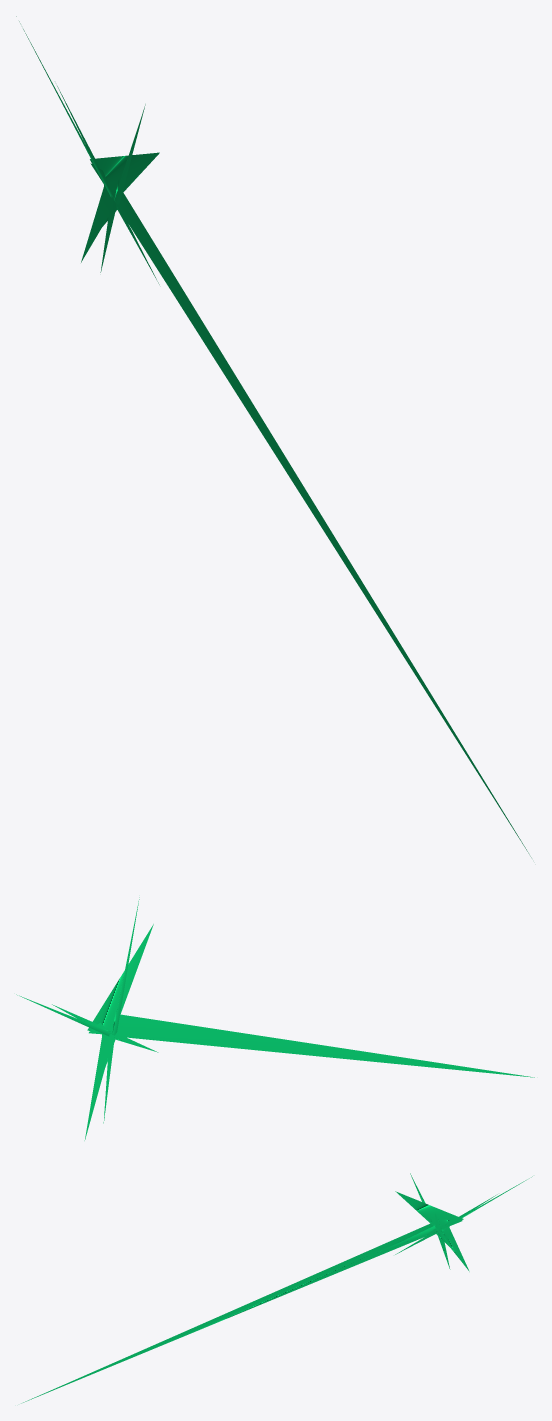
The model's file is leech_lattice_24d_ar_universal (1).glb.
The picture shows the model from 3 angles, top to bottom: view 1: azimuth 30°, elevation 25°; view 2: azimuth 150°, elevation 25°; view 3: azimuth 270°, elevation 25°; orthographic projection. The views are drawn at different scales.
Parts seen in each view (by area): view 1: leech_lattice_24d_ar; view 2: leech_lattice_24d_ar; view 3: leech_lattice_24d_ar.
Part boxes in pixels (x1=…): leech_lattice_24d_ar: x1=16, y1=16, x2=531, y2=857; leech_lattice_24d_ar: x1=16, y1=897, x2=534, y2=1140; leech_lattice_24d_ar: x1=21, y1=1173, x2=532, y2=1403.
Size of the model in its own units: 0.00528 by 0.4978 by 1.
